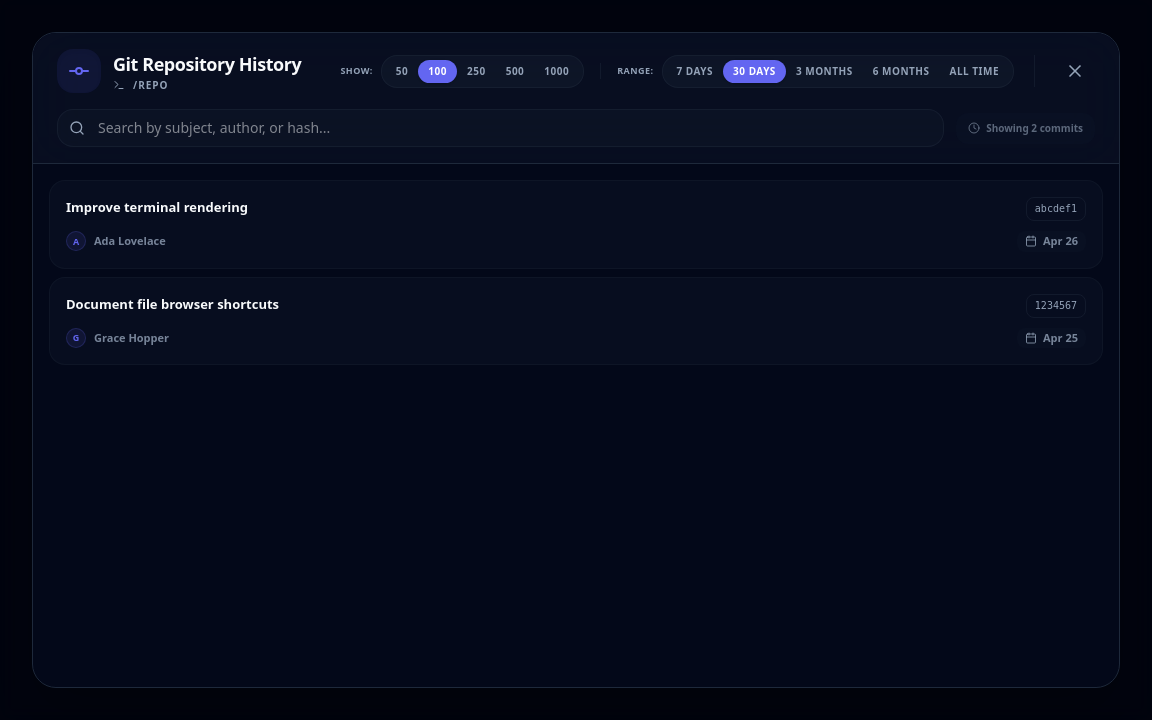
Test: GitHistoryModal › filters commits with a normalized search query
Expected: the button with aria-label "view commit abcdef1: Improve terminal rendering" is shown, [49,180,1103,268]
Type "  terminal  " into the search field named "Search git commits" at (501, 128), box [57,109,944,147]
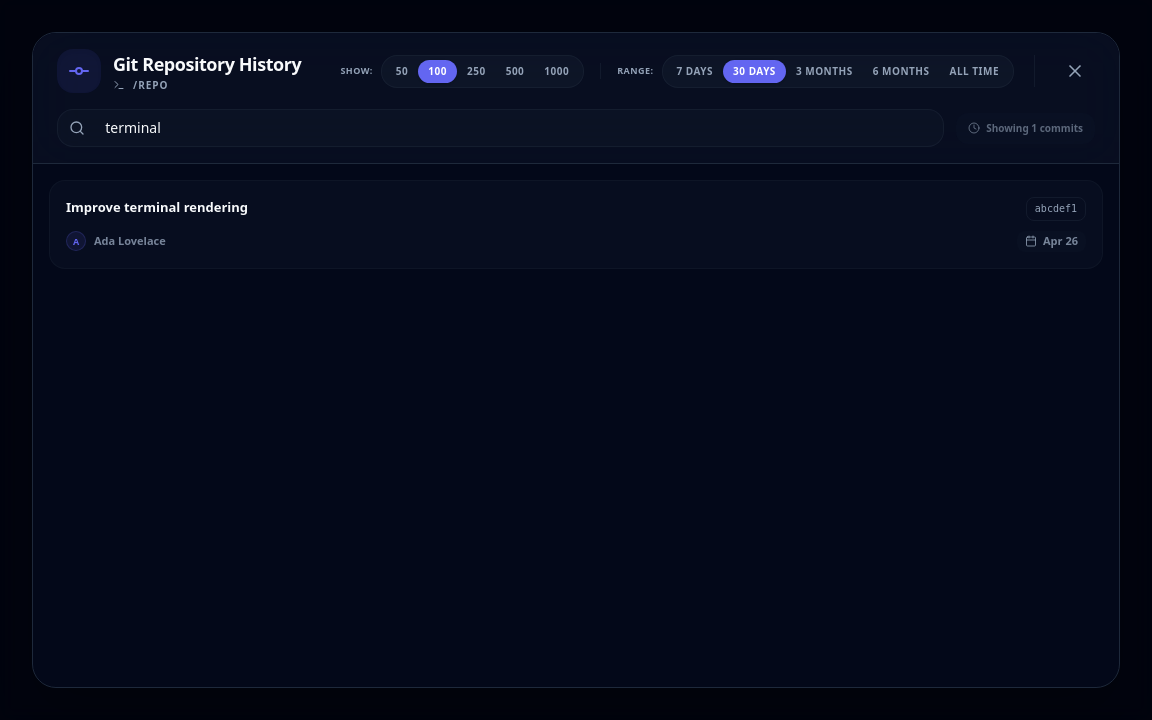
Expected: the button with aria-label "view commit abcdef1: Improve terminal rendering" is shown, [49,180,1103,268]
Expected: the text "Showing 1 commits" is shown, [956,112,1095,144]
